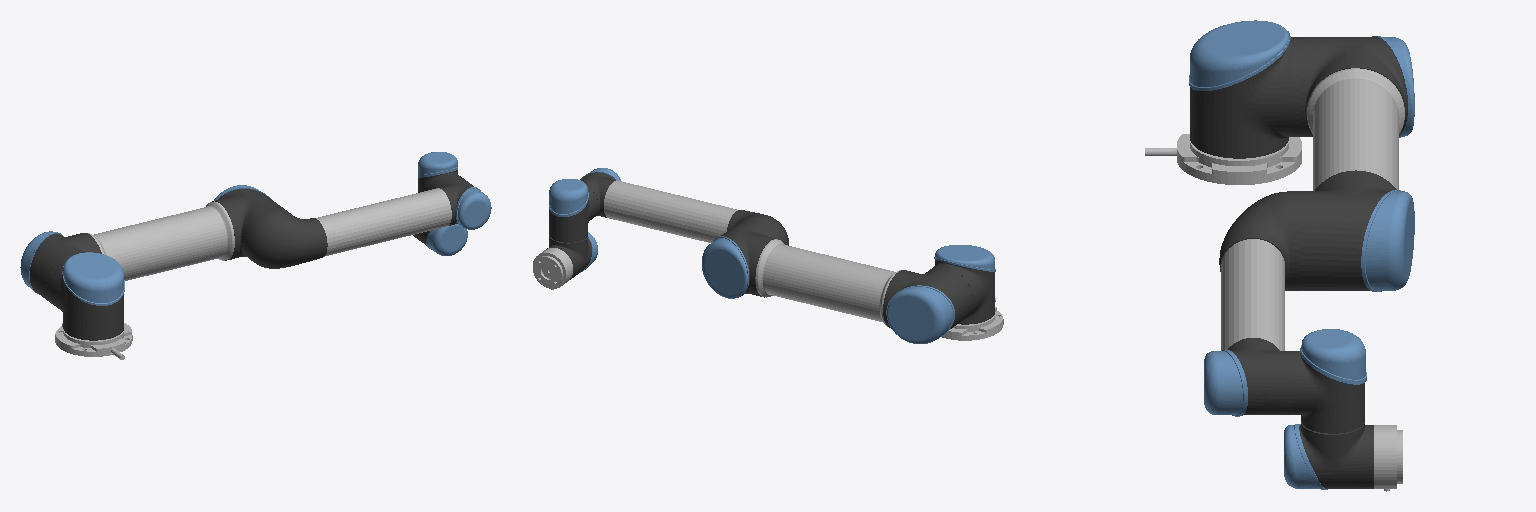
The robot description file, URDF, robot "ur5":
<?xml version="1.0" encoding="utf-8"?>
<!-- =================================================================================== -->
<!-- |    This document was autogenerated by xacro from ur5_robot.urdf.xacro           | -->
<!-- |    EDITING THIS FILE BY HAND IS NOT RECOMMENDED                                 | -->
<!-- =================================================================================== -->
<robot name="ur5">
  <!-- measured from model -->
  <!--property name="shoulder_height" value="0.089159" /-->
  <!--property name="shoulder_offset" value="0.13585" /-->
  <!-- shoulder_offset - elbow_offset + wrist_1_length = 0.10915 -->
  <!--property name="upper_arm_length" value="0.42500" /-->
  <!--property name="elbow_offset" value="0.1197" /-->
  <!-- CAD measured -->
  <!--property name="forearm_length" value="0.39225" /-->
  <!--property name="wrist_1_length" value="0.093" /-->
  <!-- CAD measured -->
  <!--property name="wrist_2_length" value="0.09465" /-->
  <!-- In CAD this distance is 0.930, but in the spec it is 0.09465 -->
  <!--property name="wrist_3_length" value="0.0823" /-->
  <!-- manually measured -->

  <!-- ~= Kd * (1+Ks) -->
  <material name="Rohr">
    <color rgba="0.75 0.75 0.75 1.0"/>
  </material>
  <material name="verbindung">
    <color rgba="0.3 0.3 0.3 1.0"/>
  </material>
  <material name="blau">
    <color rgba="0.45 0.6 0.75 1.0"/>
  </material>

  <material name="Rohr">
    <color rgba="0.524800 0.524800 0.524800 1.0"/>
  </material>
  <material name="verbindung">
    <color rgba="0.178400 0.178400 0.178400 1.0"/>
  </material>
  <material name="blau">
    <color rgba="0.313600 0.434400 0.512000 1.0"/>
  </material>

  <inertial name="fixing">
      <mass value="0.0"/>
      <origin rpy="0 0 0" xyz="0.0 0.0 0.0"/>
      <inertia ixx="0.0" ixy="0.0" ixz="0.0" iyy="0.0" iyz="0.0" izz="0.0"/>
  </inertial>


  <link name="base_link">
    <visual>
      <geometry>
        <mesh filename="base.obj"/>
      </geometry>
      <material name="Rohr"/>
    </visual>
    <collision>
      <geometry>
        <mesh filename="collision/base.stl"/>
      </geometry>
    </collision>
    <inertial>
      <mass value="4.0"/>
      <origin rpy="0 0 0" xyz="0.0 0.0 0.0"/>
      <inertia ixx="0.00443333156" ixy="0.0" ixz="0.0" iyy="0.00443333156" iyz="0.0" izz="0.0072"/>
    </inertial>
  </link>



  <joint name="shoulder_pan_joint" type="revolute">
    <parent link="base_link"/>
    <child link="shoulder_link"/>
    <origin rpy="0.0 0.0 0.0" xyz="0.0 0.0 0.089159"/>
    <axis xyz="0 0 1"/>
    <limit effort="150.0" lower="-6.28318530718" upper="6.28318530718" velocity="3.15"/>
    <dynamics damping="0.0" friction="0.0"/>
  </joint>
  <link name="shoulder_link">
    <visual>
      <geometry>
        <mesh filename="shoulder.obj"/>
      </geometry>
      <material name="verbindung"/>
    </visual>
    <collision>
      <geometry>
        <mesh filename="collision/shoulder.stl"/>
      </geometry>
    </collision>
    <inertial>
      <mass value="3.7"/>
      <origin rpy="0 0 0" xyz="0.0 0.0 0.0"/>
      <inertia ixx="0.010267495893" ixy="0.0" ixz="0.0" iyy="0.010267495893" iyz="0.0" izz="0.00666"/>
    </inertial>
  </link>
  <joint name="shoulder_pan_fix_joint" type="fixed">
    <parent link="shoulder_link"/>
    <child link="shoulder02_link"/>
  </joint>
  <link name="shoulder02_link">
    <visual>
      <geometry>
        <mesh filename="shoulder02.obj"/>
      </geometry>
      <material name="blau"/>
    </visual>
    <inertial>
        <mass value="0.0"/>
        <origin rpy="0 0 0" xyz="0.0 0.0 0.0"/>
        <inertia ixx="0.0" ixy="0.0" ixz="0.0" iyy="0.0" iyz="0.0" izz="0.0"/>
    </inertial>
  </link>



  <joint name="shoulder_lift_joint" type="revolute">
    <parent link="shoulder_link"/>
    <child link="upper_arm_link"/>
    <origin rpy="0.0 1.57079632679 0.0" xyz="0.0 0.13585 0.0"/>
    <axis xyz="0 1 0"/>
    <limit effort="150.0" lower="-6.28318530718" upper="6.28318530718" velocity="3.15"/>
    <dynamics damping="0.0" friction="0.0"/>
  </joint>
  <link name="upper_arm_link">
    <visual>
      <geometry>
        <mesh filename="upperarm.obj"/>
      </geometry>
      <material name="verbindung"/>
    </visual>
    <collision>
      <geometry>
        <mesh filename="upperarm.obj"/>
      </geometry>
    </collision>
    <inertial>
      <mass value="8.393"/>
      <origin rpy="0 0 0" xyz="0.0 0.0 0.28"/>
      <inertia ixx="0.22689067591" ixy="0.0" ixz="0.0" iyy="0.22689067591" iyz="0.0" izz="0.0151074"/>
    </inertial>
  </link>
  <joint name="shoulder_lift_fix02_joint" type="fixed">
    <parent link="upper_arm_link"/>
    <child link="upper_arm02_link"/>
  </joint>
  <link name="upper_arm02_link">
    <visual>
      <geometry>
        <mesh filename="upperarm02.obj"/>
      </geometry>
      <material name="Rohr"/>
    </visual>
    <collision>
      <geometry>
        <mesh filename="upperarm02.obj"/>
      </geometry>
    </collision>
    <inertial>
      <mass value="0.0"/>
      <origin rpy="0 0 0" xyz="0.0 0.0 0.0"/>
      <inertia ixx="0.0" ixy="0.0" ixz="0.0" iyy="0.0" iyz="0.0" izz="0.0"/>
    </inertial>
  </link>
  <joint name="shoulder_lift_fix03_joint" type="fixed">
    <parent link="upper_arm_link"/>
    <child link="upper_arm03_link"/>
  </joint>
  <link name="upper_arm03_link">
    <visual>
      <geometry>
        <mesh filename="upperarm03.obj"/>
      </geometry>
      <material name="verbindung"/>
    </visual>
    <collision>
      <geometry>
        <mesh filename="upperarm03.obj"/>
      </geometry>
    </collision>
    <inertial>
      <mass value="0.0"/>
      <origin rpy="0 0 0" xyz="0.0 0.0 0.0"/>
      <inertia ixx="0.0" ixy="0.0" ixz="0.0" iyy="0.0" iyz="0.0" izz="0.0"/>
    </inertial>
  </link>
  <joint name="shoulder_lift_fix_01_joint" type="fixed">
    <parent link="upper_arm_link"/>
    <child link="upper_arm_01_link"/>
  </joint>
  <link name="upper_arm_01_link">
    <visual>
      <geometry>
        <mesh filename="upperarm_01.obj"/>
      </geometry>
      <material name="blau"/>
    </visual>
    <collision>
      <geometry>
        <mesh filename="upperarm_01.obj"/>
      </geometry>
    </collision>
    <inertial>
      <mass value="0.0"/>
      <origin rpy="0 0 0" xyz="0.0 0.0 0.0"/>
      <inertia ixx="0.0" ixy="0.0" ixz="0.0" iyy="0.0" iyz="0.0" izz="0.0"/>
    </inertial>
  </link>
  <joint name="shoulder_lift_fix03_01_joint" type="fixed">
    <parent link="upper_arm_link"/>
    <child link="upper_arm03_01_link"/>
  </joint>
  <link name="upper_arm03_01_link">
    <visual>
      <geometry>
        <mesh filename="upperarm03_01.obj"/>
      </geometry>
      <material name="blau"/>
    </visual>
    <collision>
      <geometry>
        <mesh filename="upperarm03_01.obj"/>
      </geometry>
    </collision>
    <inertial>
      <mass value="0.0"/>
      <origin rpy="0 0 0" xyz="0.0 0.0 0.0"/>
      <inertia ixx="0.0" ixy="0.0" ixz="0.0" iyy="0.0" iyz="0.0" izz="0.0"/>
    </inertial>
  </link>



  <joint name="elbow_joint" type="revolute">
    <parent link="upper_arm_link"/>
    <child link="forearm_link"/>
    <origin rpy="0.0 0.0 0.0" xyz="0.0 -0.1197 0.425"/>
    <axis xyz="0 1 0"/>
    <limit effort="150.0" lower="-3.14159265359" upper="3.14159265359" velocity="3.15"/>
    <dynamics damping="0.0" friction="0.0"/>
  </joint>
  <link name="forearm_link">
    <visual>
      <geometry>
        <mesh filename="forearm.obj"/>
      </geometry>
      <material name="verbindung"/>
    </visual>
    <collision>
      <geometry>
        <mesh filename="forearm.obj"/>
      </geometry>
    </collision>
    <inertial>
      <mass value="2.275"/>
      <origin rpy="0 0 0" xyz="0.0 0.0 0.196125"/>
      <inertia ixx="0.0312167910289" ixy="0.0" ixz="0.0" iyy="0.0312167910289" iyz="0.0" izz="0.004095"/>
    </inertial>
  </link>
  <joint name="elbow_fix02_joint" type="fixed">
    <parent link="forearm_link"/>
    <child link="forearm02_link"/>
  </joint>
  <link name="forearm02_link">
    <visual>
      <geometry>
        <mesh filename="forearm02.obj"/>
      </geometry>
      <material name="Rohr"/>
    </visual>
    <collision>
      <geometry>
        <mesh filename="forearm02.obj"/>
      </geometry>
    </collision>
    <inertial>
      <mass value="0.0"/>
      <origin rpy="0 0 0" xyz="0.0 0.0 0.0"/>
      <inertia ixx="0.0" ixy="0.0" ixz="0.0" iyy="0.0" iyz="0.0" izz="0.0"/>
    </inertial>
  </link>
  <joint name="elbow_fix03_joint" type="fixed">
    <parent link="forearm_link"/>
    <child link="forearm03_link"/>
  </joint>
  <link name="forearm03_link">
    <visual>
      <geometry>
        <mesh filename="forearm03.obj"/>
      </geometry>
      <material name="verbindung"/>
    </visual>
    <collision>
      <geometry>
        <mesh filename="forearm03.obj"/>
      </geometry>
    </collision>
    <inertial>
      <mass value="0.0"/>
      <origin rpy="0 0 0" xyz="0.0 0.0 0.0"/>
      <inertia ixx="0.0" ixy="0.0" ixz="0.0" iyy="0.0" iyz="0.0" izz="0.0"/>
    </inertial>
  </link>
  <joint name="elbow_fix03_01_joint" type="fixed">
    <parent link="forearm_link"/>
    <child link="forearm03_01_link"/>
  </joint>
  <link name="forearm03_01_link">
    <visual>
      <geometry>
        <mesh filename="forearm03_01.obj"/>
      </geometry>
      <material name="blau"/>
    </visual>
    <collision>
      <geometry>
        <mesh filename="forearm03_01.obj"/>
      </geometry>
    </collision>
    <inertial>
      <mass value="0.0"/>
      <origin rpy="0 0 0" xyz="0.0 0.0 0.0"/>
      <inertia ixx="0.0" ixy="0.0" ixz="0.0" iyy="0.0" iyz="0.0" izz="0.0"/>
    </inertial>
  </link>



  <joint name="wrist_1_joint" type="revolute">
    <parent link="forearm_link"/>
    <child link="wrist_1_link"/>
    <origin rpy="0.0 1.57079632679 0.0" xyz="0.0 0.0 0.39225"/>
    <axis xyz="0 1 0"/>
    <limit effort="28.0" lower="-6.28318530718" upper="6.28318530718" velocity="3.2"/>
    <dynamics damping="0.0" friction="0.0"/>
  </joint>
  <link name="wrist_1_link">
    <visual>
      <geometry>
        <mesh filename="wrist1.obj"/>
      </geometry>
      <material name="verbindung"/>
    </visual>
    <collision>
      <geometry>
        <mesh filename="wrist1.obj"/>
      </geometry>
    </collision>
    <inertial>
      <mass value="1.219"/>
      <origin rpy="0 0 0" xyz="0.0 0.093 0.0"/>
      <inertia ixx="0.00255989897604" ixy="0.0" ixz="0.0" iyy="0.00255989897604" iyz="0.0" izz="0.0021942"/>
    </inertial>
  </link>
  <joint name="wrist_1_fix_joint" type="fixed">
    <parent link="wrist_1_link"/>
    <child link="wrist_1_01_link"/>
  </joint>
  <link name="wrist_1_01_link">
    <visual>
      <geometry>
        <mesh filename="wrist1_01.obj"/>
      </geometry>
      <material name="blau"/>
    </visual>
    <collision>
      <geometry>
        <mesh filename="wrist1_01.obj"/>
      </geometry>
    </collision>
    <inertial>
      <mass value="0.0"/>
      <origin rpy="0 0 0" xyz="0.0 0.0 0.0"/>
      <inertia ixx="0.0" ixy="0.0" ixz="0.0" iyy="0.0" iyz="0.0" izz="0.0"/>
    </inertial>
  </link>



  <joint name="wrist_2_joint" type="revolute">
    <parent link="wrist_1_link"/>
    <child link="wrist_2_link"/>
    <origin rpy="0.0 0.0 0.0" xyz="0.0 0.093 0.0"/>
    <axis xyz="0 0 1"/>
    <limit effort="28.0" lower="-6.28318530718" upper="6.28318530718" velocity="3.2"/>
    <dynamics damping="0.0" friction="0.0"/>
  </joint>
  <link name="wrist_2_link">
    <visual>
      <geometry>
        <mesh filename="wrist2.obj"/>
      </geometry>
      <material name="verbindung"/>
    </visual>
    <collision>
      <geometry>
        <mesh filename="wrist2.obj"/>
      </geometry>
    </collision>
    <inertial>
      <mass value="1.219"/>
      <origin rpy="0 0 0" xyz="0.0 0.0 0.09465"/>
      <inertia ixx="0.00255989897604" ixy="0.0" ixz="0.0" iyy="0.00255989897604" iyz="0.0" izz="0.0021942"/>
    </inertial>
  </link>
  <joint name="wrist_2_fix_joint" type="fixed">
    <parent link="wrist_2_link"/>
    <child link="wrist_2_01_link"/>
  </joint>
  <link name="wrist_2_01_link">
    <visual>
      <geometry>
        <mesh filename="wrist2_01.obj"/>
      </geometry>
      <material name="blau"/>
    </visual>
    <collision>
      <geometry>
        <mesh filename="wrist2_01.obj"/>
      </geometry>
    </collision>
    <inertial>
      <mass value="0.0"/>
      <origin rpy="0 0 0" xyz="0.0 0.0 0.0"/>
      <inertia ixx="0.0" ixy="0.0" ixz="0.0" iyy="0.0" iyz="0.0" izz="0.0"/>
    </inertial>
  </link>



  <joint name="wrist_3_joint" type="revolute">
    <parent link="wrist_2_link"/>
    <child link="wrist_3_link"/>
    <origin rpy="0.0 0.0 0.0" xyz="0.0 0.0 0.09465"/>
    <axis xyz="0 1 0"/>
    <limit effort="28.0" lower="-6.28318530718" upper="6.28318530718" velocity="3.2"/>
    <dynamics damping="0.0" friction="0.0"/>
  </joint>
  <link name="wrist_3_link">
    <visual>
      <geometry>
        <mesh filename="wrist3.obj"/>
      </geometry>
      <material name="Rohr"/>
    </visual>
    <collision>
      <geometry>
        <mesh filename="wrist3.obj"/>
      </geometry>
    </collision>
    <inertial>
      <mass value="0.1879"/>
      <origin rpy="1.57079632679 0 0" xyz="0.0 0.06505 0.0"/>
      <inertia ixx="8.46958911216e-05" ixy="0.0" ixz="0.0" iyy="8.46958911216e-05" iyz="0.0" izz="0.0001321171875"/>
    </inertial>
  </link>



  <joint name="ee_fixed_joint" type="fixed">
    <parent link="wrist_3_link"/>
    <child link="ee_link"/>
    <origin rpy="0.0 0.0 1.57079632679" xyz="0.0 0.0823 0.0"/>
  </joint>
  <link name="ee_link">
    <collision>
      <geometry>
        <box size="0.01 0.01 0.01"/>
      </geometry>
      <origin rpy="0 0 0" xyz="-0.01 0 0"/>
    </collision>
    <inertial>
      <mass value="0.0"/>
      <origin rpy="0 0 0" xyz="0.0 0.0 0.0"/>
      <inertia ixx="0.0" ixy="0.0" ixz="0.0" iyy="0.0" iyz="0.0" izz="0.0"/>
    </inertial>
  </link>



  <transmission name="shoulder_pan_trans">
    <type>transmission_interface/SimpleTransmission</type>
    <joint name="shoulder_pan_joint">
      <hardwareInterface>hardware_interface/PositionJointInterface</hardwareInterface>
    </joint>
    <actuator name="shoulder_pan_motor">
      <mechanicalReduction>1</mechanicalReduction>
    </actuator>
  </transmission>
  <transmission name="shoulder_lift_trans">
    <type>transmission_interface/SimpleTransmission</type>
    <joint name="shoulder_lift_joint">
      <hardwareInterface>hardware_interface/PositionJointInterface</hardwareInterface>
    </joint>
    <actuator name="shoulder_lift_motor">
      <mechanicalReduction>1</mechanicalReduction>
    </actuator>
  </transmission>
  <transmission name="elbow_trans">
    <type>transmission_interface/SimpleTransmission</type>
    <joint name="elbow_joint">
      <hardwareInterface>hardware_interface/PositionJointInterface</hardwareInterface>
    </joint>
    <actuator name="elbow_motor">
      <mechanicalReduction>1</mechanicalReduction>
    </actuator>
  </transmission>
  <transmission name="wrist_1_trans">
    <type>transmission_interface/SimpleTransmission</type>
    <joint name="wrist_1_joint">
      <hardwareInterface>hardware_interface/PositionJointInterface</hardwareInterface>
    </joint>
    <actuator name="wrist_1_motor">
      <mechanicalReduction>1</mechanicalReduction>
    </actuator>
  </transmission>
  <transmission name="wrist_2_trans">
    <type>transmission_interface/SimpleTransmission</type>
    <joint name="wrist_2_joint">
      <hardwareInterface>hardware_interface/PositionJointInterface</hardwareInterface>
    </joint>
    <actuator name="wrist_2_motor">
      <mechanicalReduction>1</mechanicalReduction>
    </actuator>
  </transmission>
  <transmission name="wrist_3_trans">
    <type>transmission_interface/SimpleTransmission</type>
    <joint name="wrist_3_joint">
      <hardwareInterface>hardware_interface/PositionJointInterface</hardwareInterface>
    </joint>
    <actuator name="wrist_3_motor">
      <mechanicalReduction>1</mechanicalReduction>
    </actuator>
  </transmission>
  <gazebo reference="shoulder_link">
    <selfCollide>true</selfCollide>
  </gazebo>
  <gazebo reference="upper_arm_link">
    <selfCollide>true</selfCollide>
  </gazebo>
  <gazebo reference="forearm_link">
    <selfCollide>true</selfCollide>
  </gazebo>
  <gazebo reference="wrist_1_link">
    <selfCollide>true</selfCollide>
  </gazebo>
  <gazebo reference="wrist_3_link">
    <selfCollide>true</selfCollide>
  </gazebo>
  <gazebo reference="wrist_2_link">
    <selfCollide>true</selfCollide>
  </gazebo>
  <gazebo reference="ee_link">
    <selfCollide>true</selfCollide>
  </gazebo>
  <!-- ROS base_link to UR 'Base' Coordinates transform -->
  <link name="base">
    <inertial>
      <mass value="0.0"/>
      <origin rpy="0 0 0" xyz="0.0 0.0 0.0"/>
      <inertia ixx="0.0" ixy="0.0" ixz="0.0" iyy="0.0" iyz="0.0" izz="0.0"/>
    </inertial>
  </link>
  <joint name="base_link-base_fixed_joint" type="fixed">
    <!-- NOTE: this rotation is only needed as long as base_link itself is
                 not corrected wrt the real robot (ie: rotated over 180
                 degrees)
      -->
    <origin rpy="0 0 -3.14159265359" xyz="0 0 0"/>
    <parent link="base_link"/>
    <child link="base"/>
  </joint>
  <!-- Frame coincident with all-zeros TCP on UR controller -->
  <link name="tool0">
    <inertial>
      <mass value="0.0"/>
      <origin rpy="0 0 0" xyz="0.0 0.0 0.0"/>
      <inertia ixx="0.0" ixy="0.0" ixz="0.0" iyy="0.0" iyz="0.0" izz="0.0"/>
    </inertial>
  </link>
  <joint name="wrist_3_link-tool0_fixed_joint" type="fixed">
    <origin rpy="-1.57079632679 0 0" xyz="0 0.0823 0"/>
    <parent link="wrist_3_link"/>
    <child link="tool0"/>
  </joint>
  <link name="world"/>
  <joint name="world_joint" type="fixed">
    <parent link="world"/>
    <child link="base_link"/>
    <origin rpy="0.0 0.0 0.0" xyz="0.0 0.0 0.0"/>
  </joint>
</robot>

--- What the picture shows (computed from the rendered views, not written in the file) ---
Views: 3 orthographic renders of the robot side by side, from view 1: azimuth 30°, elevation 25°; view 2: azimuth 150°, elevation 25°; view 3: azimuth 270°, elevation 25°.
Model ur5 with 21 links and 20 joints (6 revolute, 14 fixed), rooted at world, posed all joints at 0.
Visible links, largest first — view 1: upper_arm02_link, forearm02_link, forearm_link, shoulder_link, shoulder02_link, upper_arm_link, upper_arm03_link, base_link, forearm03_01_link, wrist_2_01_link, wrist_1_01_link, forearm03_link (+1 smaller); view 2: upper_arm02_link, forearm02_link, upper_arm_01_link, upper_arm03_01_link, upper_arm_link, shoulder_link, upper_arm03_link, wrist_1_01_link, wrist_3_link, wrist_1_link, shoulder02_link, base_link (+3 smaller); view 3: upper_arm02_link, shoulder_link, upper_arm03_link, forearm02_link, shoulder02_link, upper_arm03_01_link, upper_arm_link, wrist_1_link, base_link, forearm_link, wrist_2_link, forearm03_link (+5 smaller).
Link boxes in pixels (x1,y1,x2,y2): upper_arm02_link: (88, 201, 234, 280); forearm02_link: (316, 188, 451, 256); forearm_link: (243, 207, 327, 268); shoulder_link: (49, 257, 123, 340); shoulder02_link: (62, 252, 124, 305); upper_arm_link: (30, 233, 101, 305); upper_arm03_link: (212, 189, 283, 260); base_link: (55, 323, 132, 359); forearm03_01_link: (456, 187, 491, 229); wrist_2_01_link: (426, 224, 467, 255); wrist_1_01_link: (418, 152, 457, 177); forearm03_link: (435, 175, 473, 225); upper_arm02_link: (755, 239, 900, 326); forearm02_link: (604, 180, 737, 242); upper_arm_01_link: (886, 285, 954, 343); upper_arm03_01_link: (702, 236, 748, 298); upper_arm_link: (883, 267, 972, 328); shoulder_link: (933, 260, 994, 324); upper_arm03_link: (721, 220, 778, 297); wrist_1_01_link: (549, 179, 588, 216); wrist_3_link: (533, 248, 572, 289); wrist_1_link: (549, 190, 597, 242); shoulder02_link: (934, 245, 995, 271); base_link: (942, 298, 1003, 340); upper_arm02_link: (1307, 68, 1404, 190); shoulder_link: (1190, 37, 1299, 158); upper_arm03_link: (1300, 170, 1396, 290); forearm02_link: (1221, 239, 1284, 350); shoulder02_link: (1189, 20, 1290, 90); upper_arm03_01_link: (1361, 190, 1414, 291); upper_arm_link: (1300, 37, 1407, 136); wrist_1_link: (1294, 351, 1364, 433); base_link: (1145, 134, 1301, 184); forearm_link: (1219, 191, 1299, 290); wrist_2_link: (1299, 422, 1373, 488); forearm03_link: (1228, 338, 1293, 414).
Bounding box of the posed robot: 0.9295 × 0.3144 × 0.2062 m (x, y, z).
Meshes: 17 distinct files referenced, 17 mesh visuals loaded (17 OBJ).
